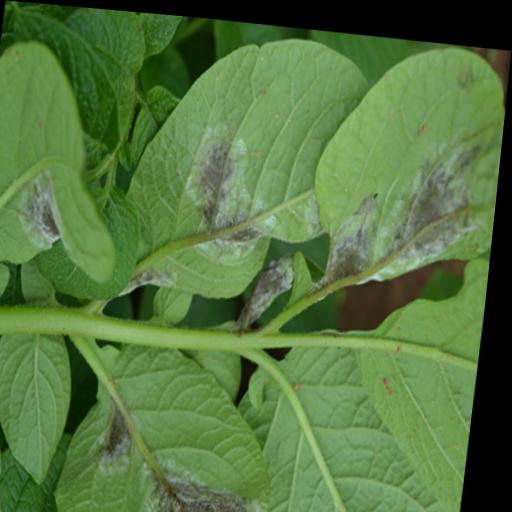Late Blight: (117, 10, 376, 329), (301, 24, 512, 302), (62, 315, 304, 512), (0, 36, 147, 301)
